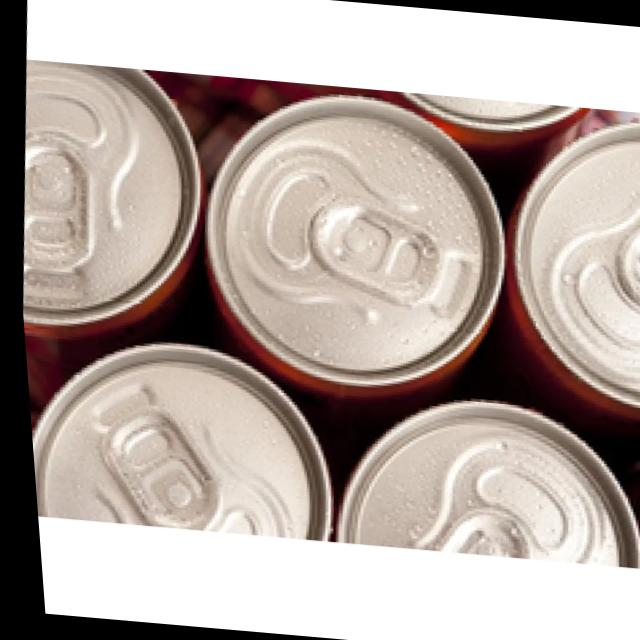aluminum_soda_cans: (183, 81, 519, 391), (19, 329, 335, 544), (311, 378, 640, 562), (3, 57, 212, 320), (496, 113, 640, 407)
